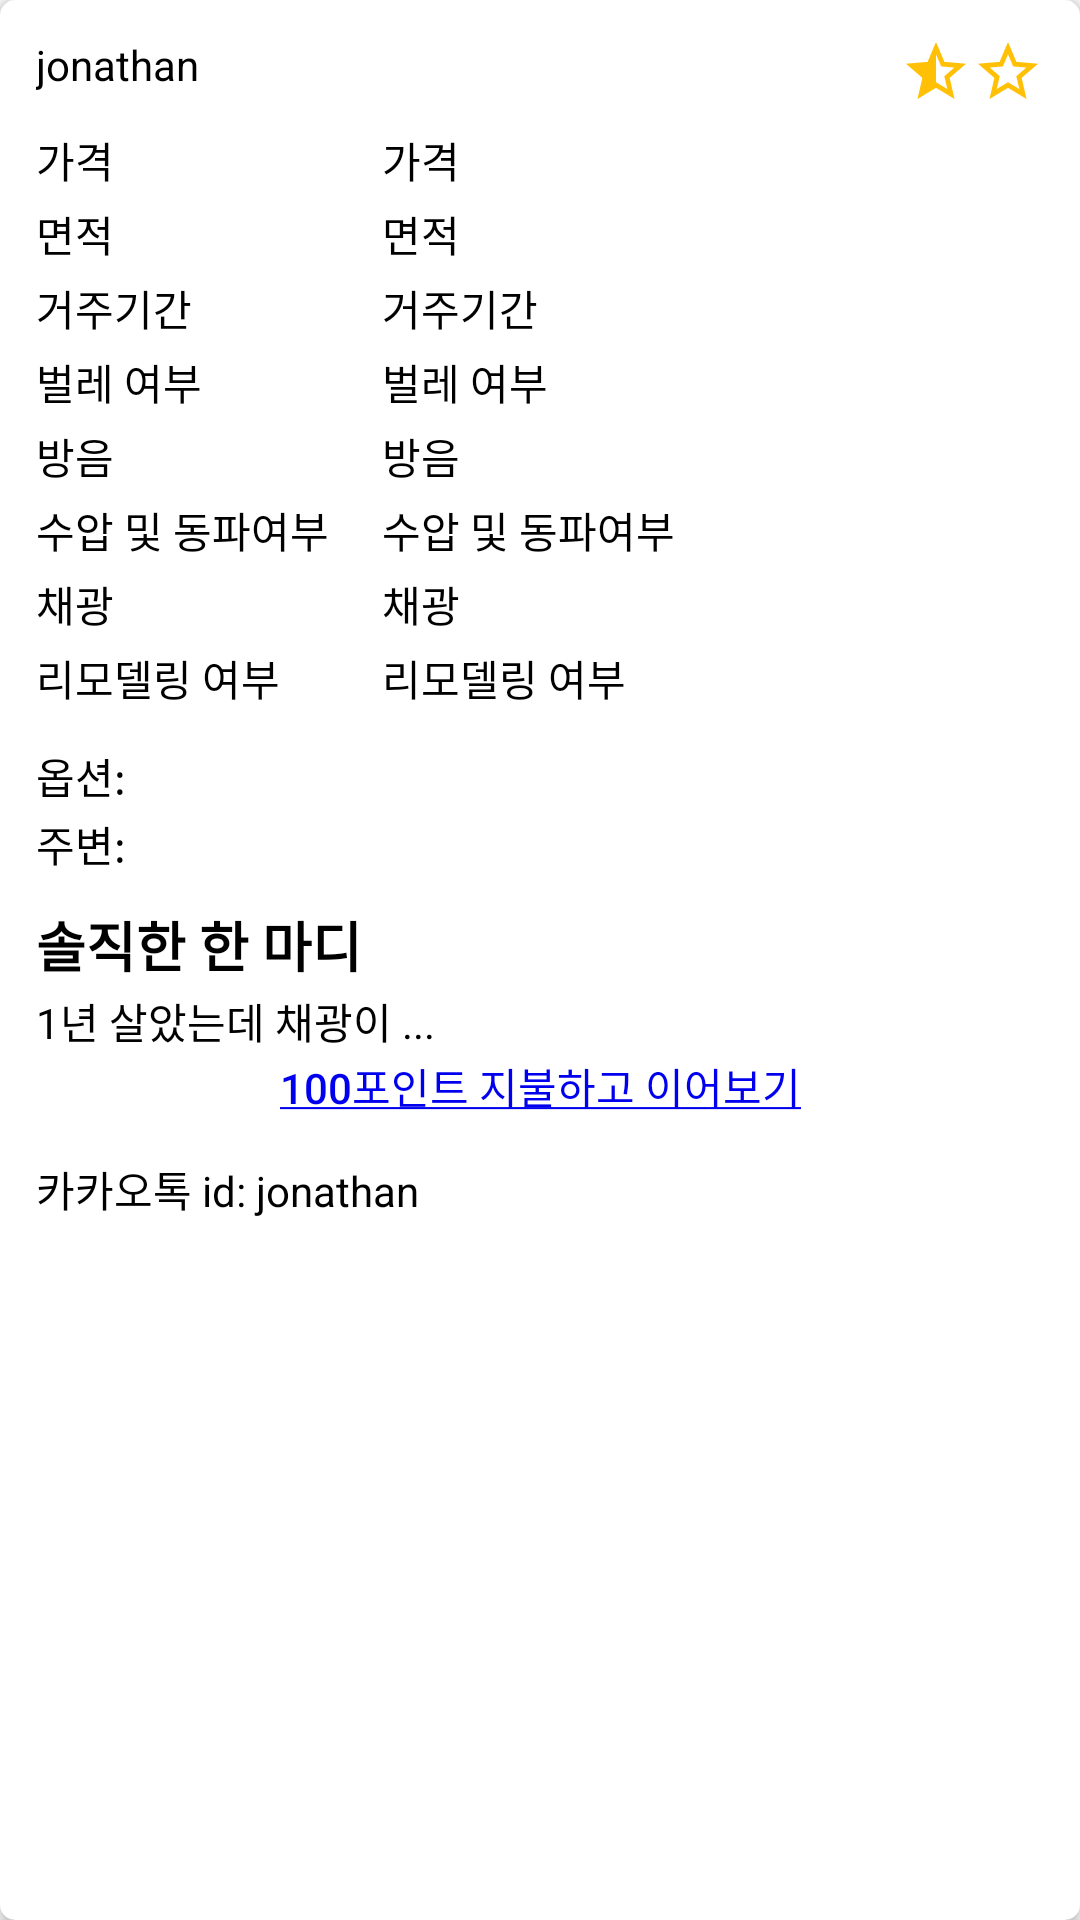

Icons on this 1080px x 1920px Android screen, each with the point to tap as point (x, y):
star border: point (1008, 70)
star half: point (936, 70)
